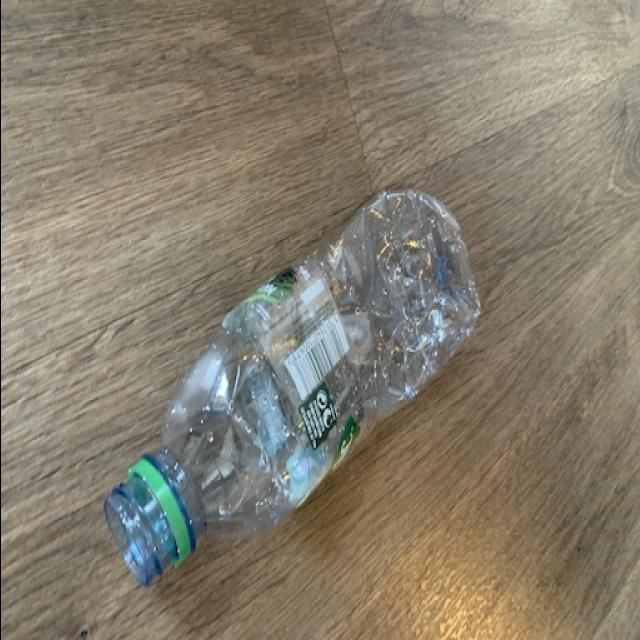PET: (99, 186, 481, 588)
